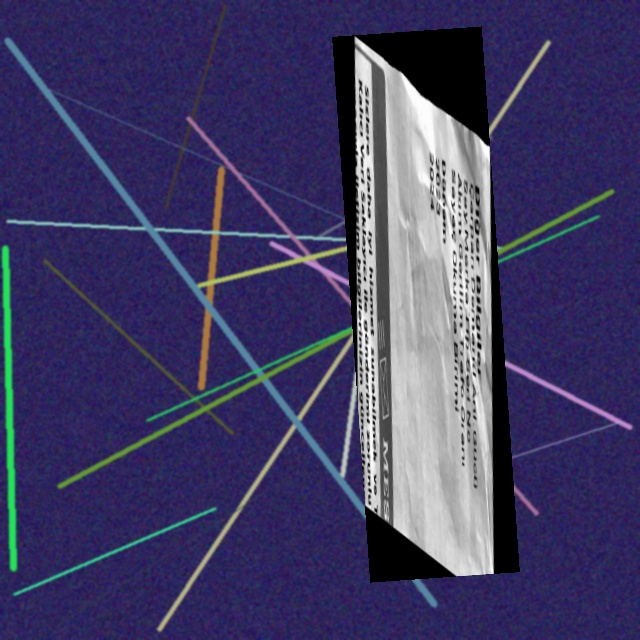electricity-bill: (332, 25, 520, 583)
